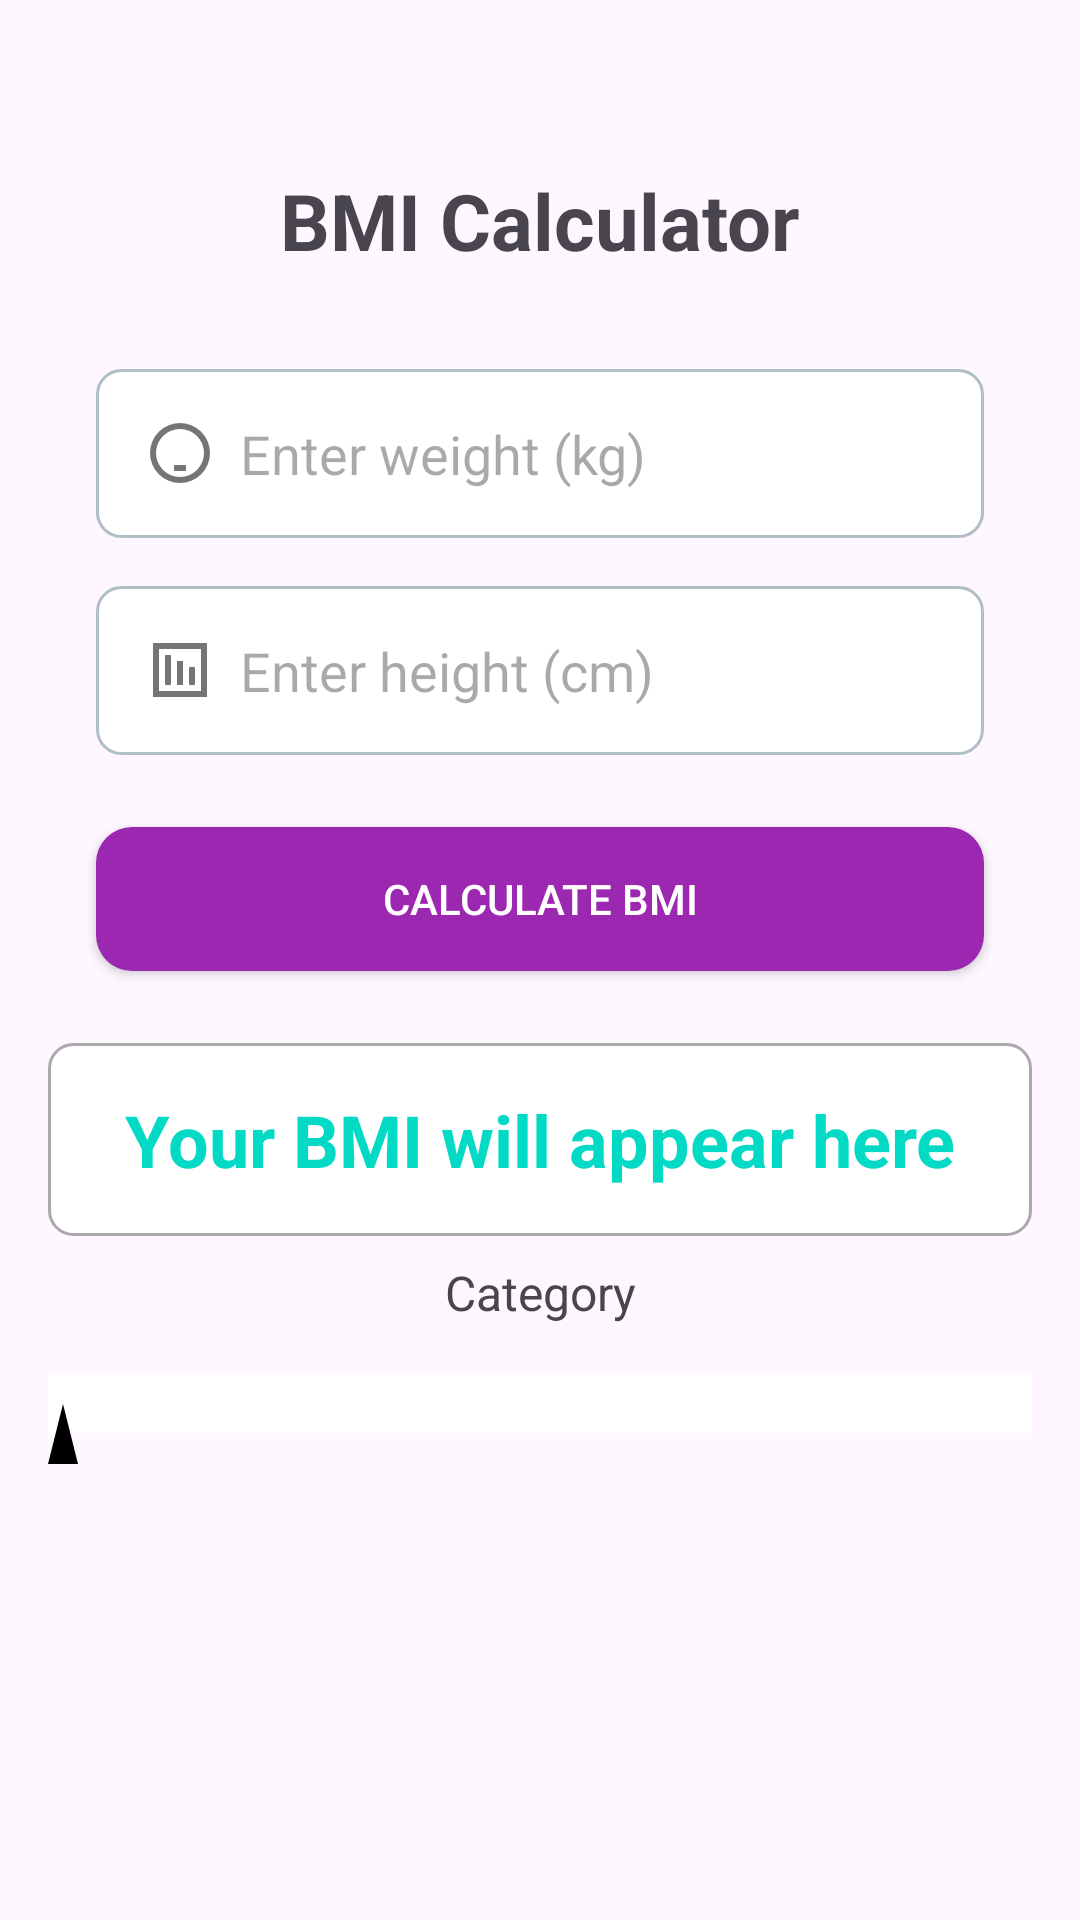

Screen size 1080*1920. Icon name, then its box in pixels as {"x1": x1, "y1": y1, "x2": x2, "y2": y2}:
bmi pointer: {"x1": 48, "y1": 1404, "x2": 78, "y2": 1464}
